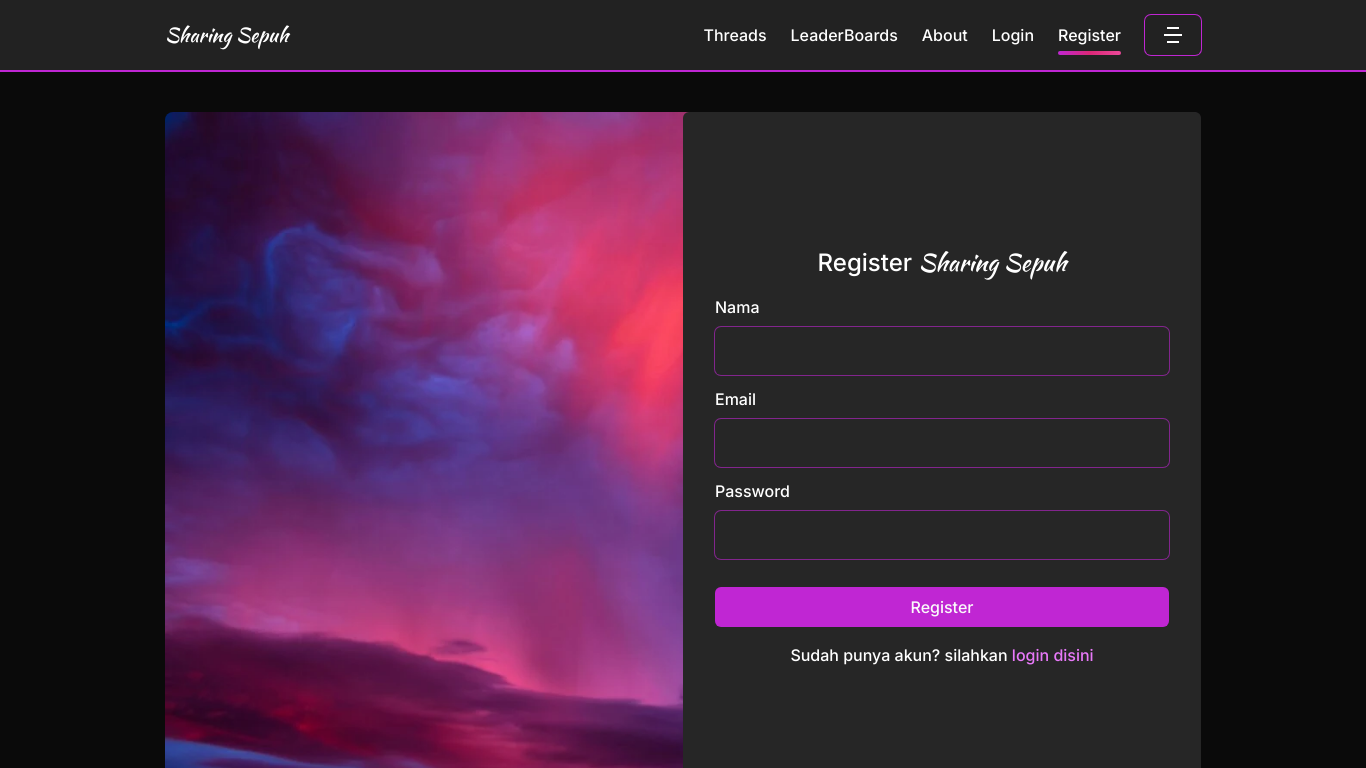
it: Register spec › should display input note error and button Register disable when name less than 3 character
Type "an" into the field labelled "Nama" at (942, 351), box [715,327,1169,375]
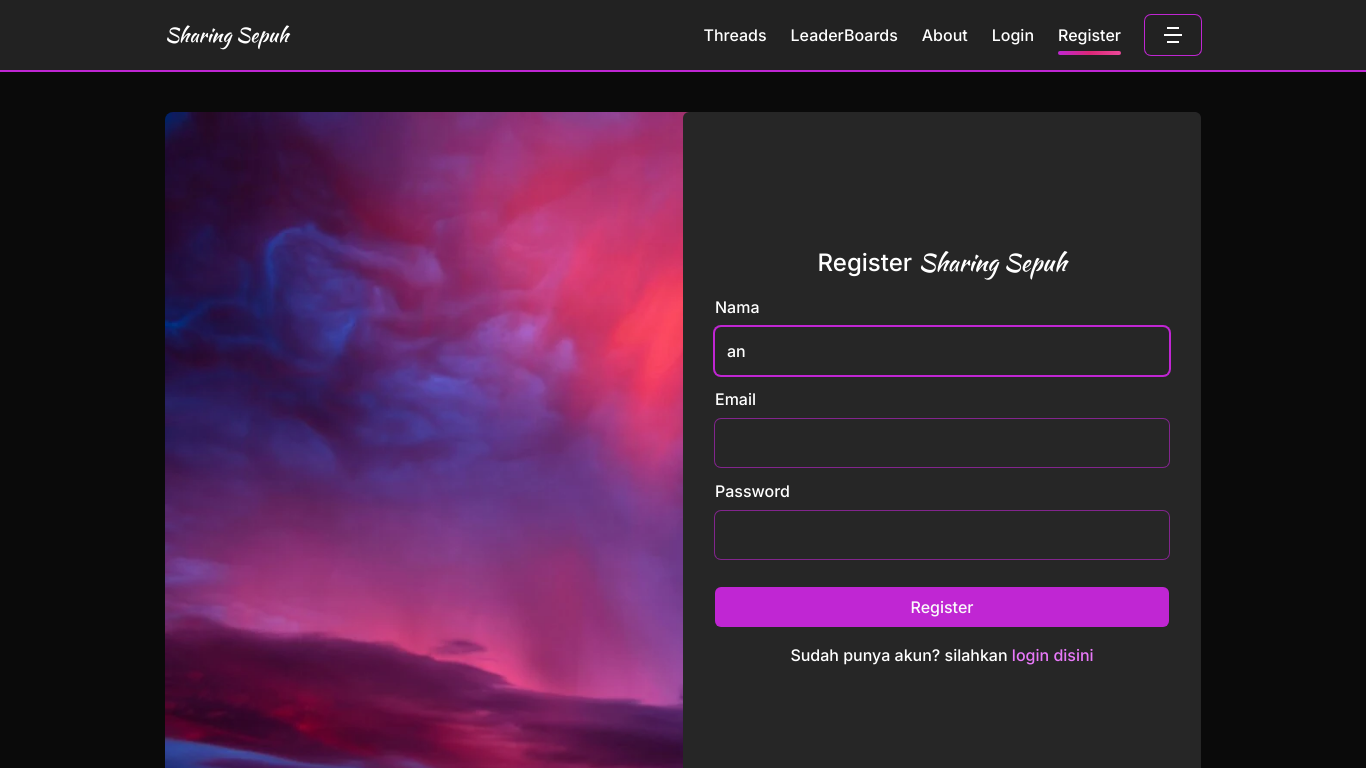
Submit the form, box [715,295,1169,627]
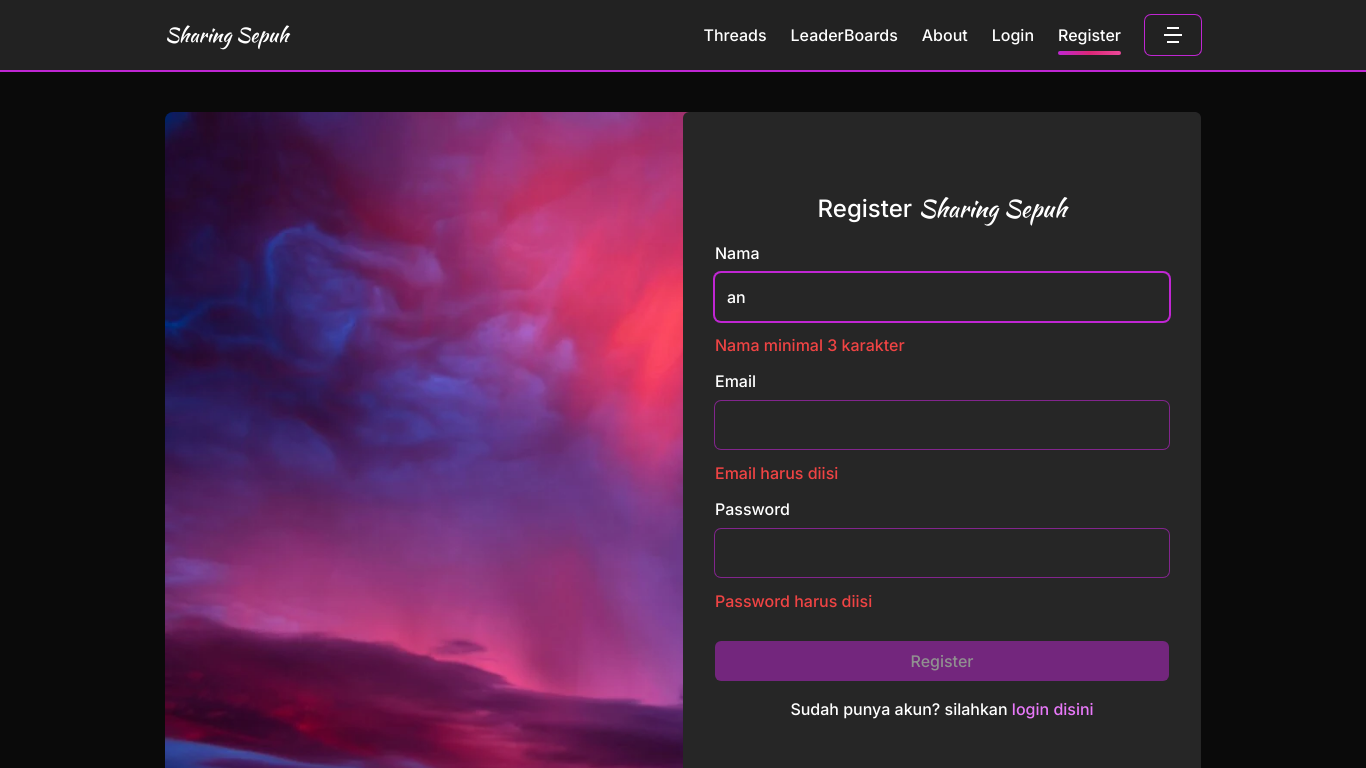
Check: the text "Nama minimal 3 karakter" is shown, box [715,335,905,355]
Check: the text "Email harus diisi" is shown, box [715,463,838,483]
Check: the text "Password harus diisi" is shown, box [715,591,872,611]
